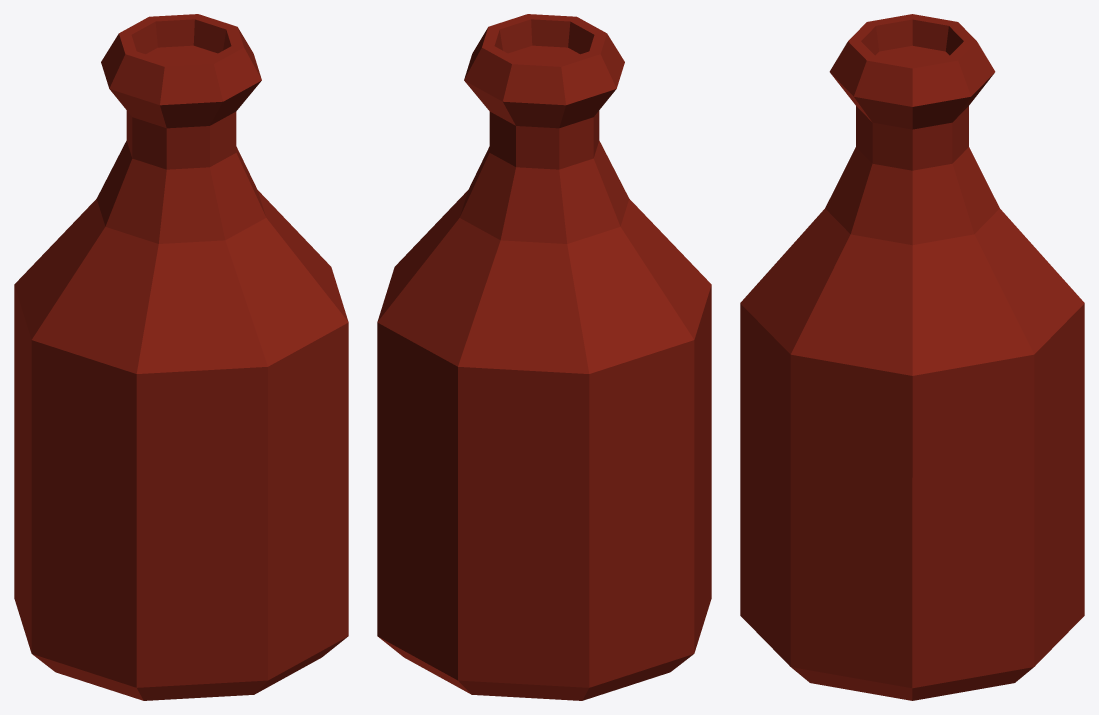
Rendered from MenuShop_Bottle_3.fbx.
3 renders of one model, left to right at view 1: azimuth 30°, elevation 25°; view 2: azimuth 150°, elevation 25°; view 3: azimuth 270°, elevation 25°, orthographic.
Visible parts, largest first — view 1: Cylinder.003; view 2: Cylinder.003; view 3: Cylinder.003.
Boxes of the visible parts, x1=… form: Cylinder.003: x1=14, y1=14, x2=348, y2=700; Cylinder.003: x1=377, y1=14, x2=711, y2=700; Cylinder.003: x1=740, y1=14, x2=1084, y2=700.
Bounding box in the file's own units: 200 × 383 × 200.
